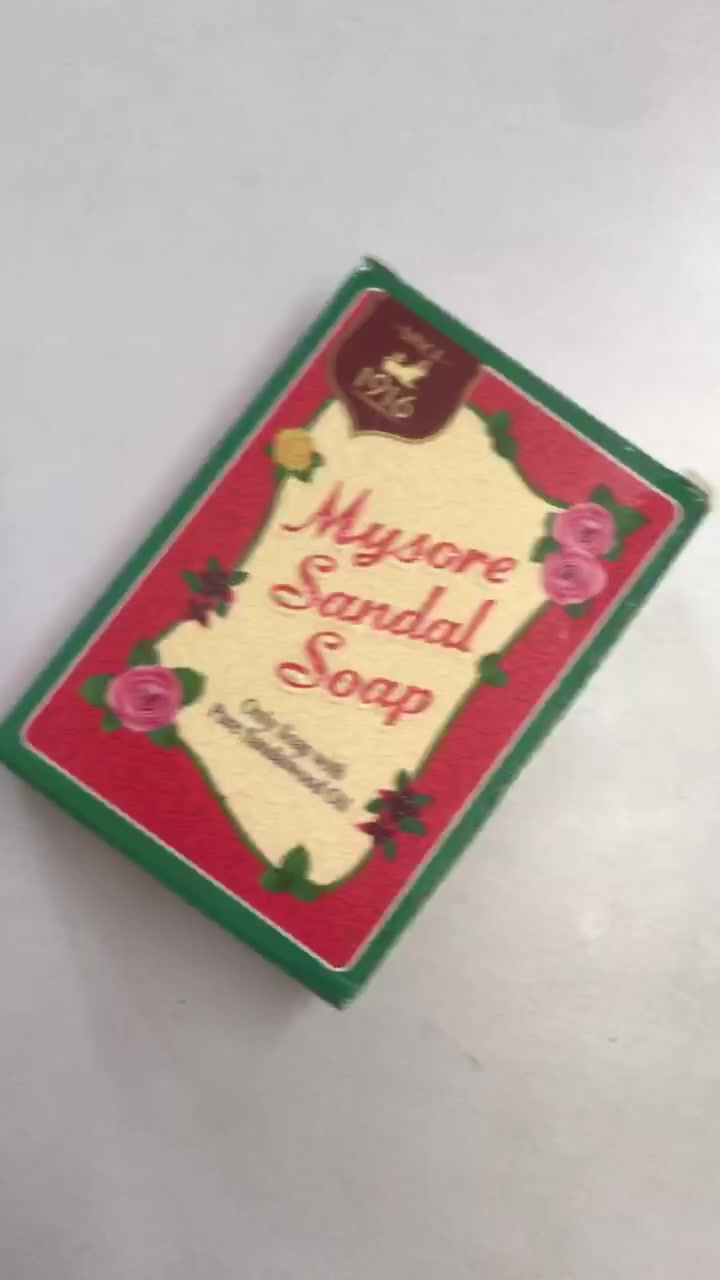mysore sandal soap: (1, 258, 703, 1005)
